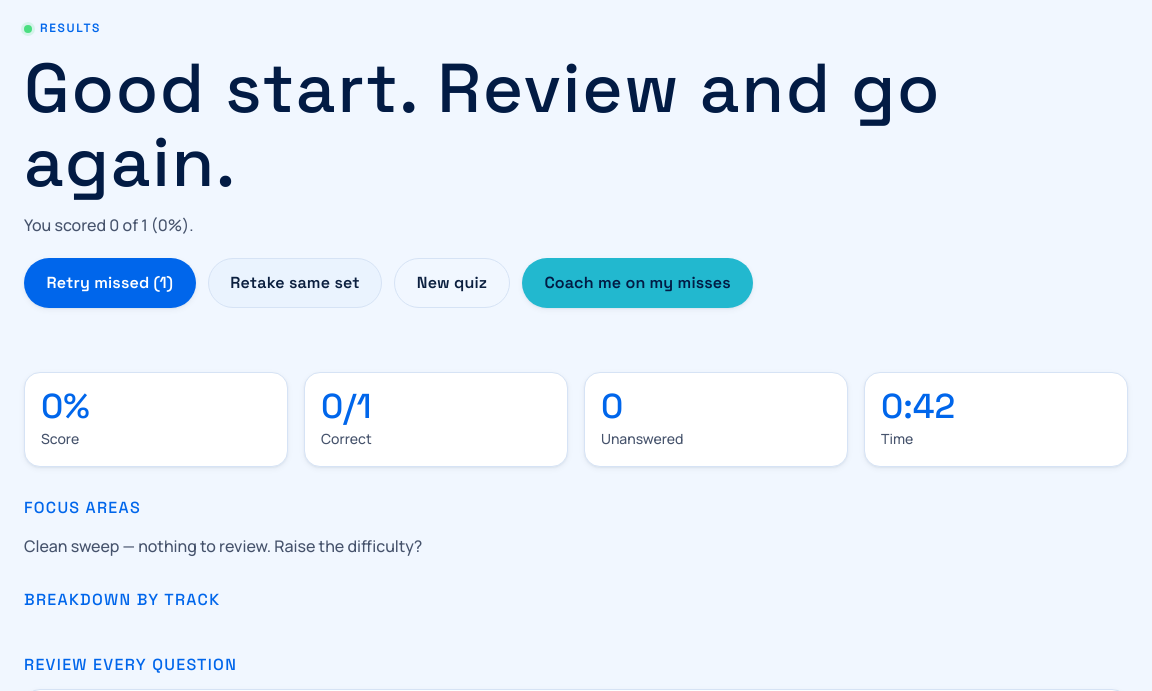
Scenario: ResultsScreen AI coach › dismisses the coach panel on request
The width and height of the screenshot is (1152, 691).
Click the button "Coach me on my misses".
click(638, 283)  # box [522,258,754,308]
(page scrolled)
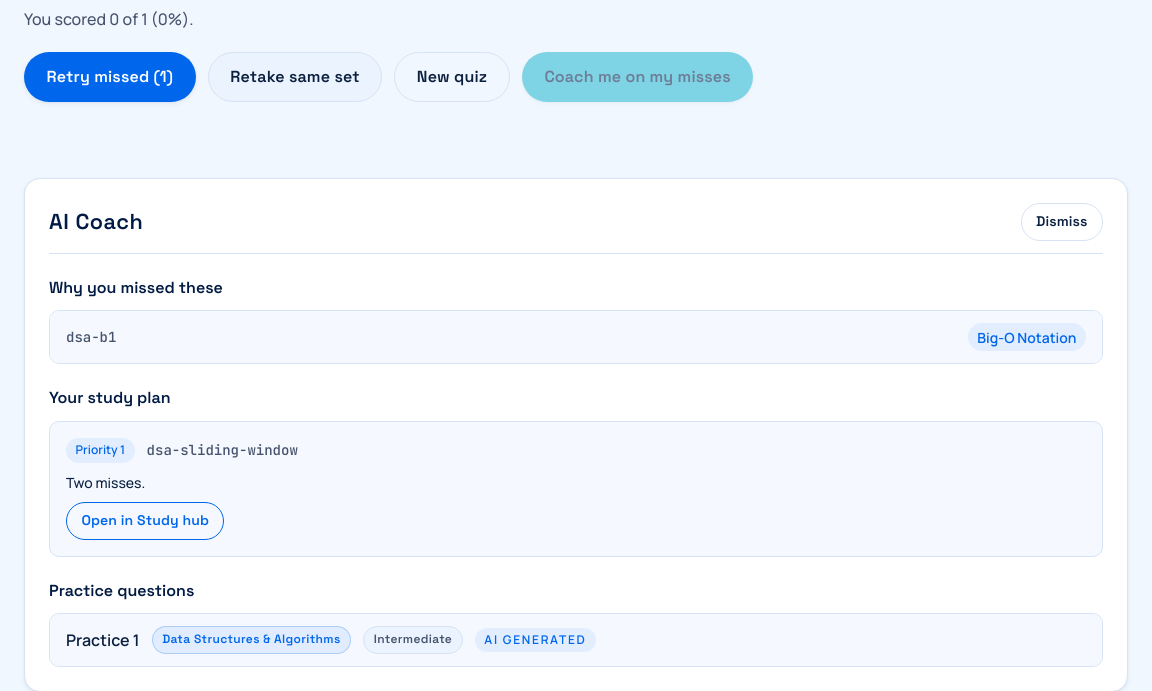
Now the heading "Why you missed these" is shown, box [49,276,223,298]
Click the button "Dismiss".
click(1062, 222)  # box [1021,203,1103,240]
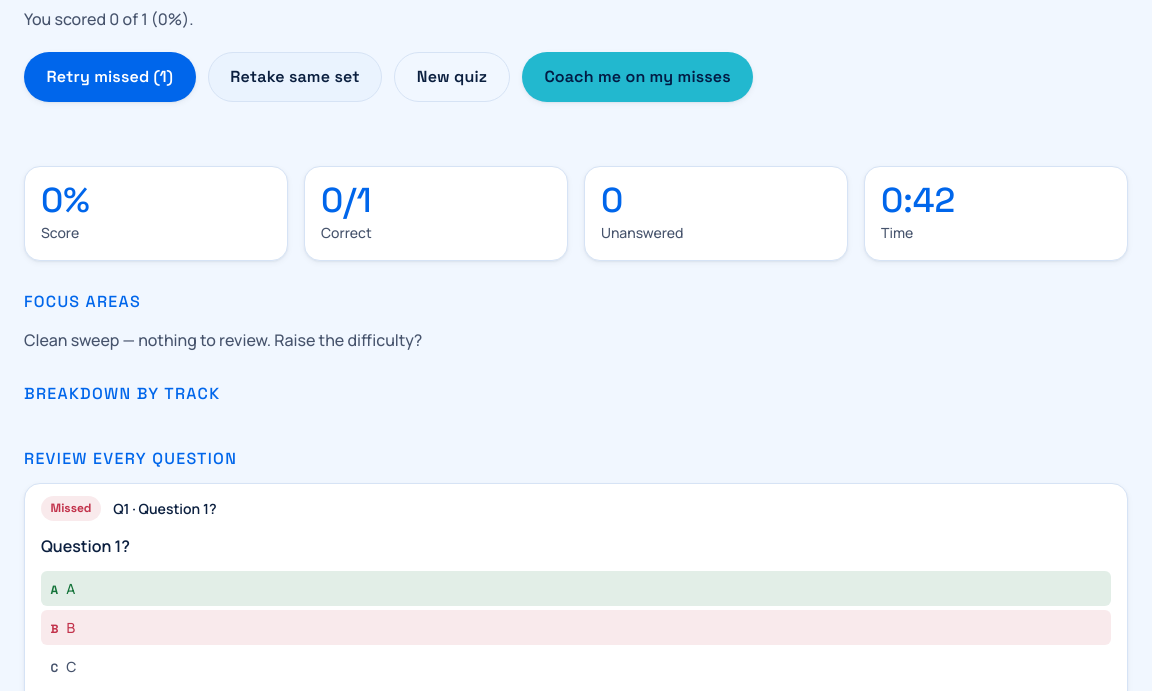
Now the heading "Why you missed these" is gone
